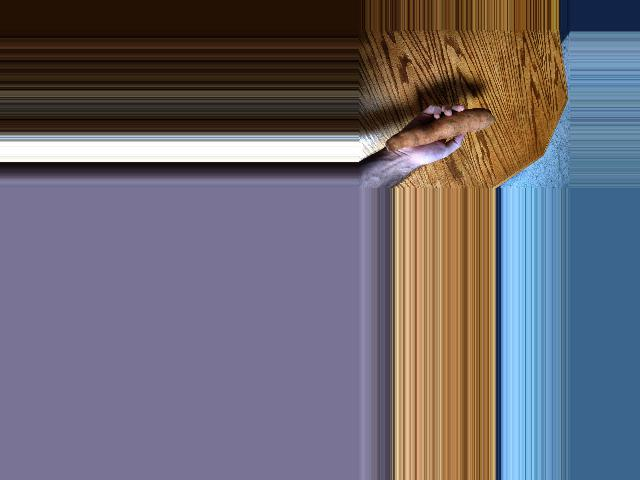sweet_potato: (391, 105, 488, 146)
